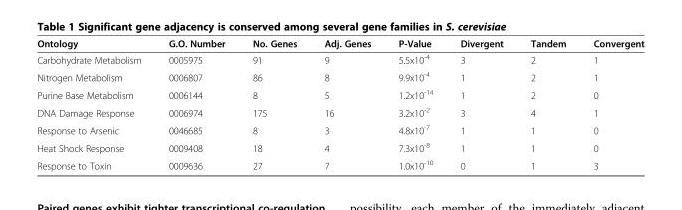table: (36, 37, 643, 171)
table column: (36, 37, 154, 171), (154, 37, 238, 171), (310, 37, 384, 171), (238, 37, 310, 171), (446, 37, 516, 171), (579, 37, 643, 171), (516, 37, 579, 171), (384, 37, 446, 171)
table column header: (36, 37, 643, 50)
table row: (36, 67, 643, 85), (36, 102, 643, 120), (36, 120, 643, 138), (36, 50, 643, 67), (36, 85, 643, 102), (36, 138, 643, 155), (36, 155, 643, 171), (36, 37, 643, 50)
